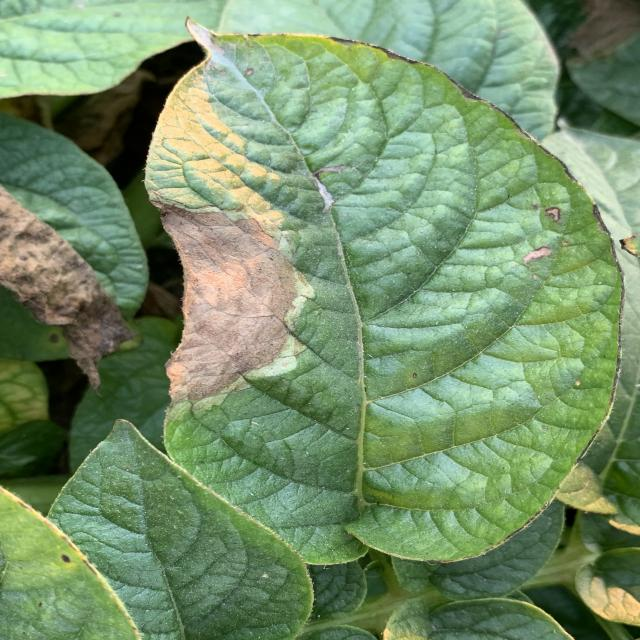lateblight: (162, 205, 298, 404), (0, 188, 133, 359)
